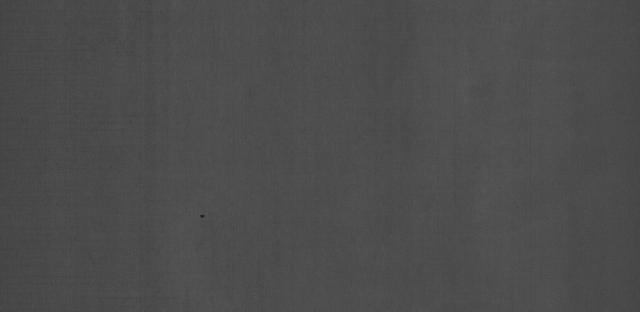inclusion: (187, 204, 222, 228)
